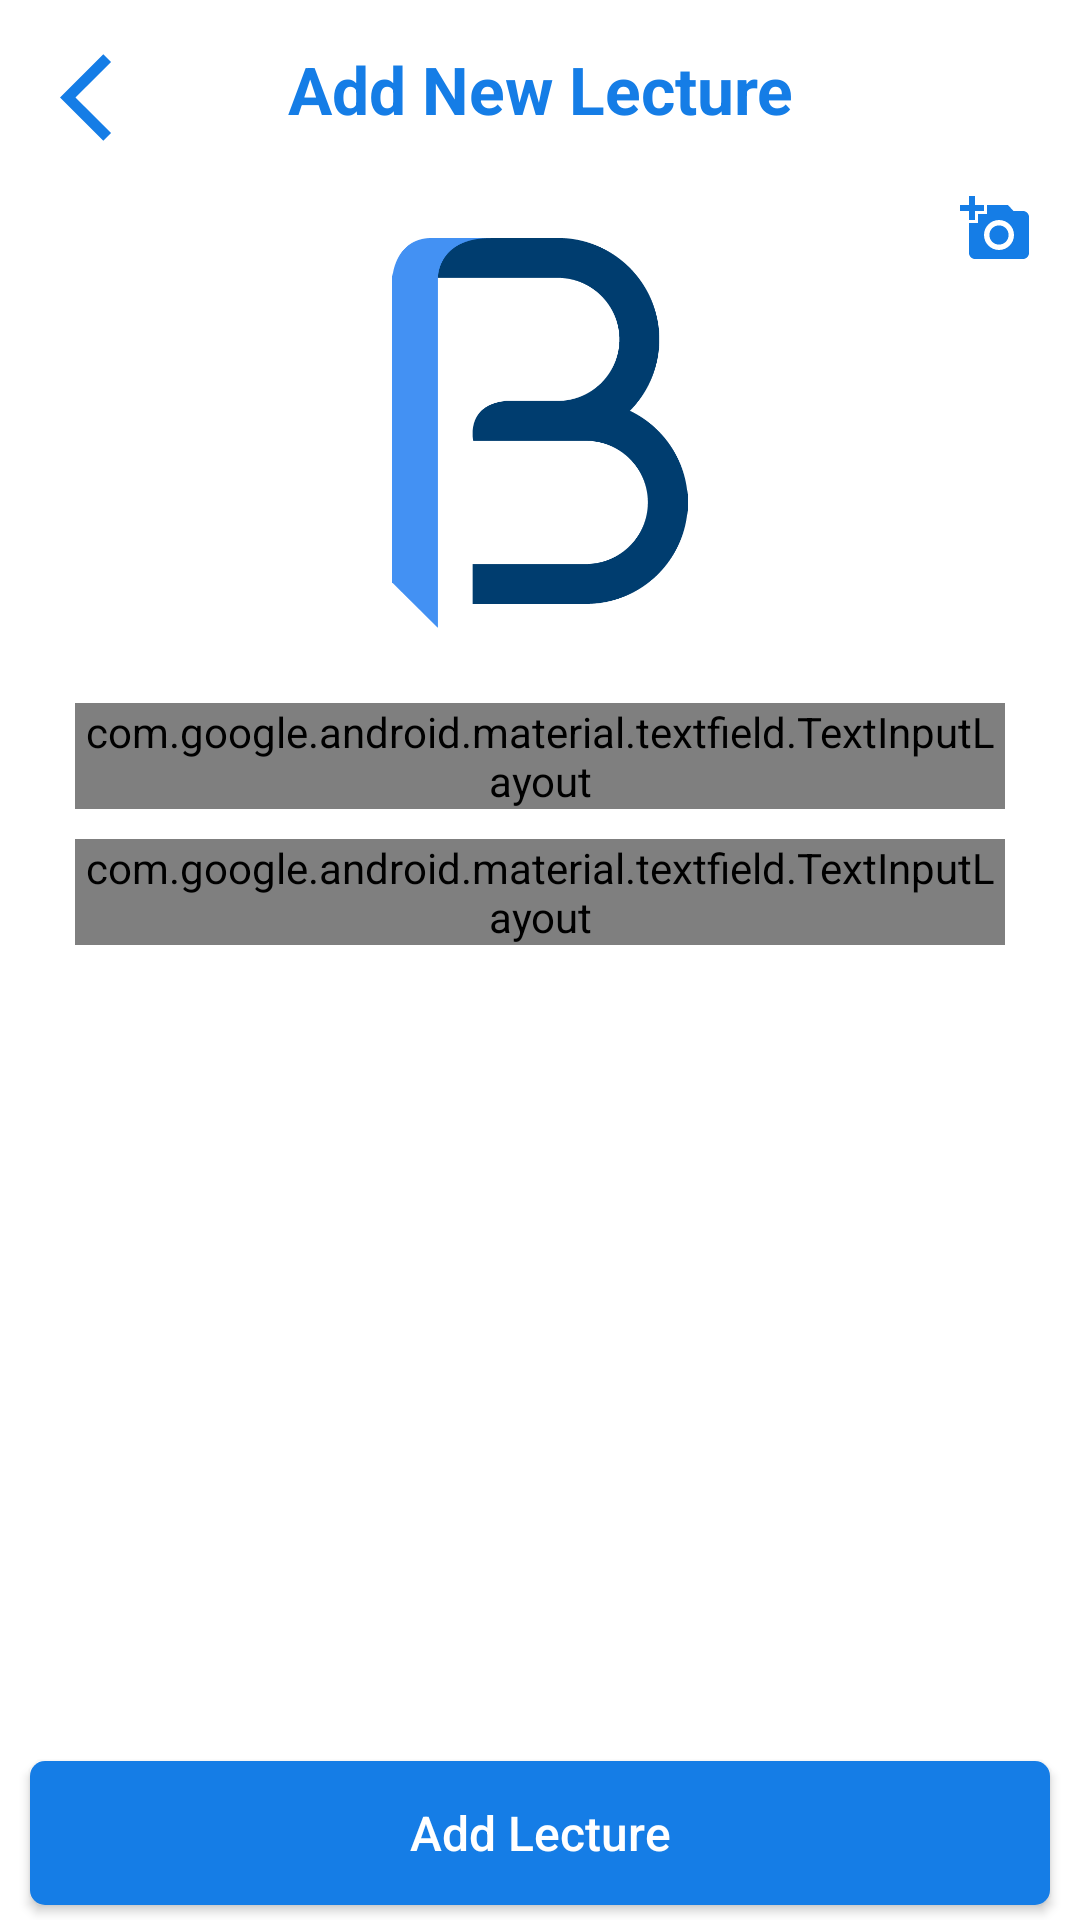

Screen size 1080 × 1920. Icon name, then its center in pixels as point (x, y):
add photo: point (994, 227)
back: point (85, 97)
